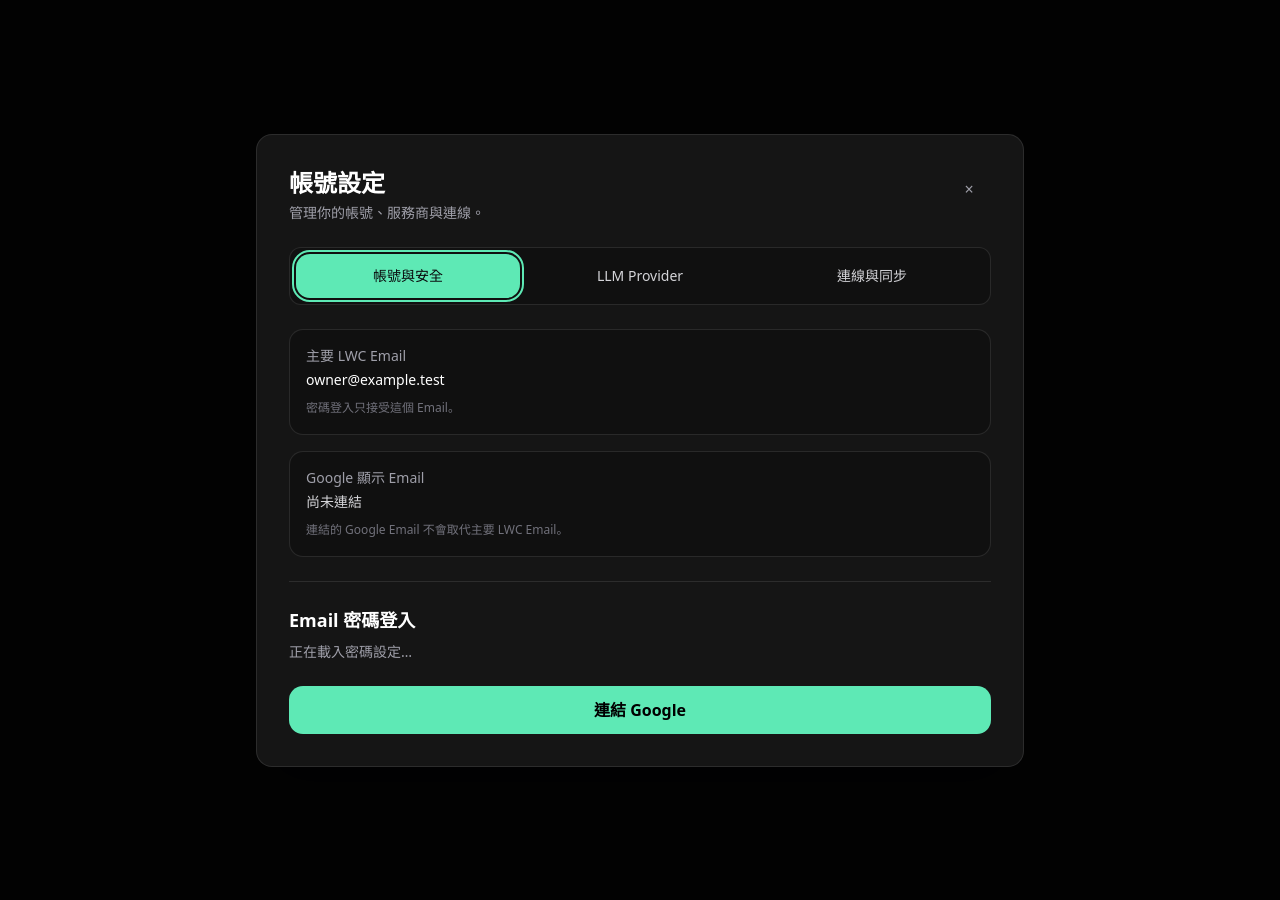
Test: LWC-346 account self-service › uses the frozen Chinese account and provider labels
expect the text "管理你的帳號、服務商與連線。" is shown: met, box x1=289 y1=202 x2=485 y2=222
expect the tab "帳號與安全" is shown: met, box x1=296 y1=254 x2=520 y2=298
What coordinates should you click on to do the following:
click the tab "LLM Provider"
I would click on:
 (640, 276)
Its box is x1=528 y1=254 x2=752 y2=298.
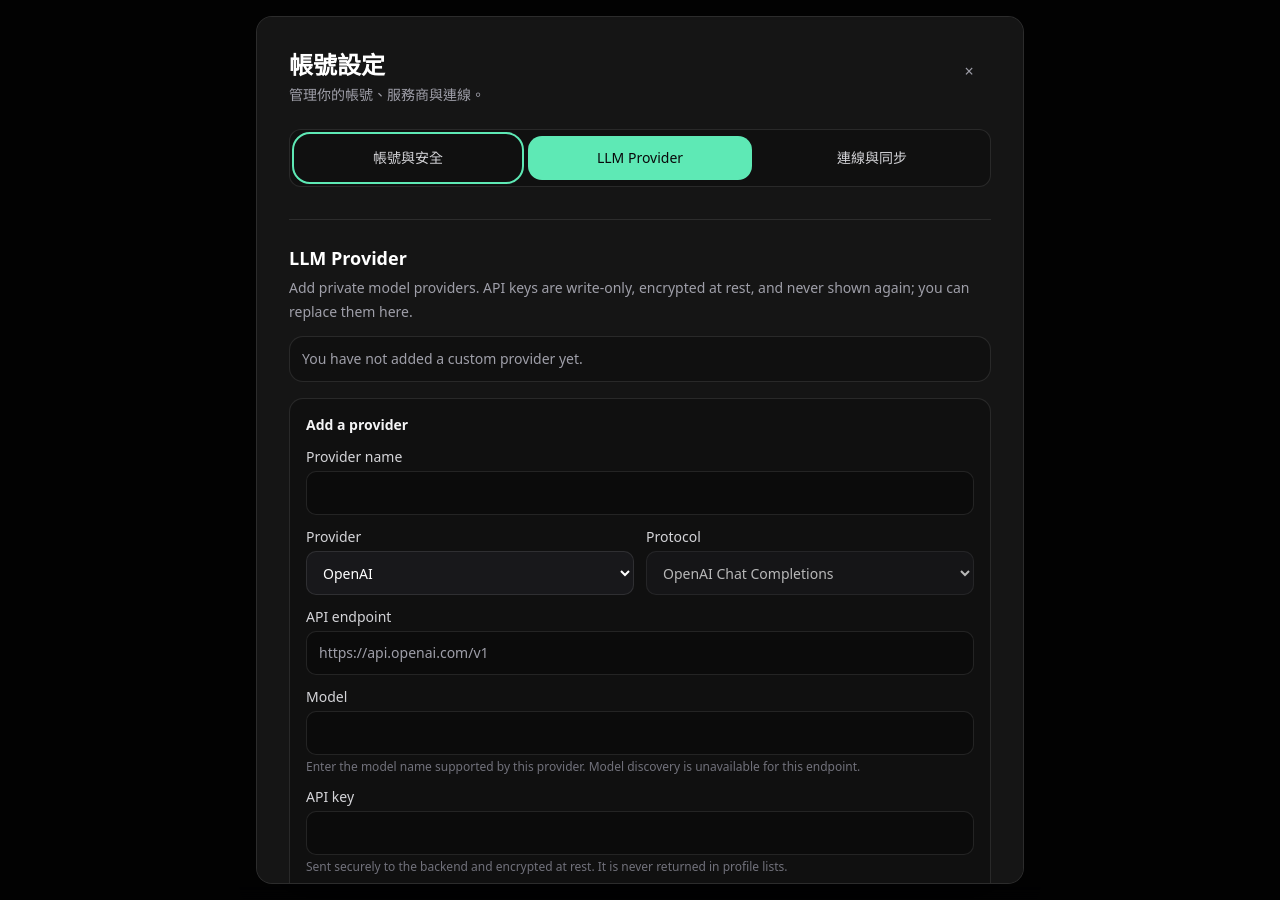
expect the heading "LLM Provider" is shown: met, box x1=289 y1=246 x2=407 y2=270
